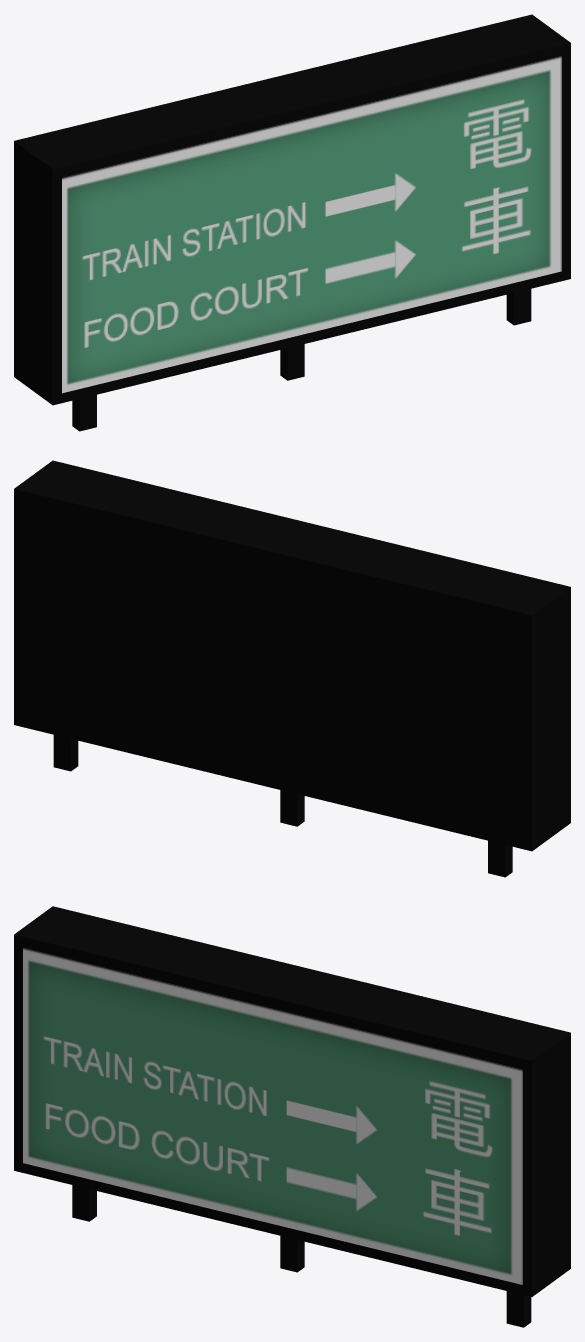
File: DirectionsSign.fbx
3 renders of one model, top to bottom at view 1: azimuth 30°, elevation 25°; view 2: azimuth 150°, elevation 25°; view 3: azimuth 330°, elevation 25°, orthographic.
Parts seen in each view (by area): view 1: Cube; view 2: Cube; view 3: Cube.
Part boxes in pixels (bbox=[...]): Cube: bbox=[14, 14, 570, 431]; Cube: bbox=[14, 460, 570, 877]; Cube: bbox=[14, 906, 570, 1327].
Bounding box in the file's own units: 279 × 146 × 36.18.
